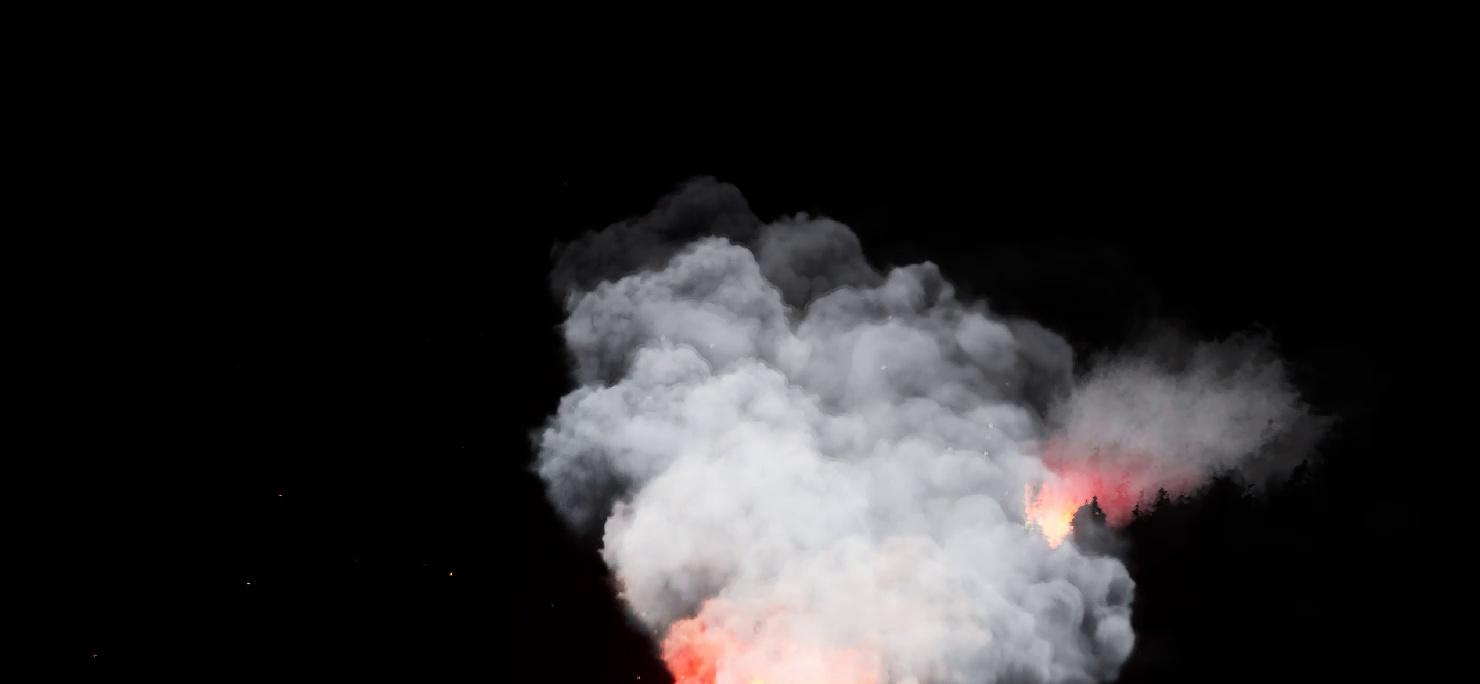fire: (648, 604, 886, 683), (1030, 452, 1158, 550)
smoke: (527, 188, 1319, 683)
